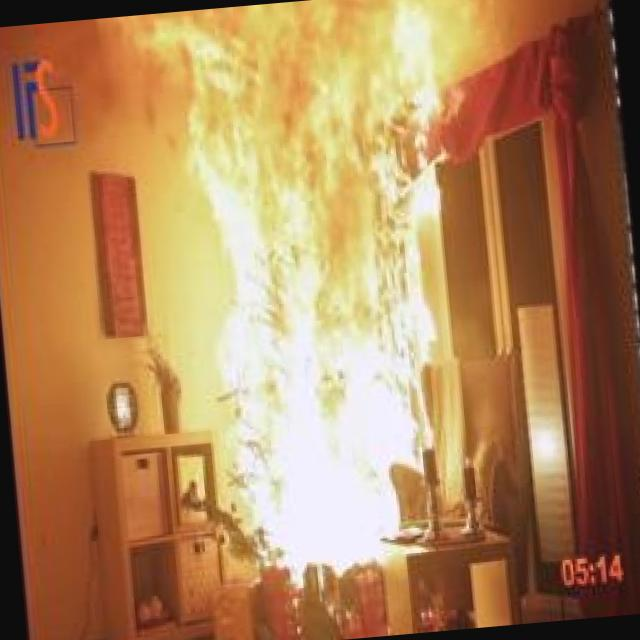fire: (82, 0, 512, 602)
